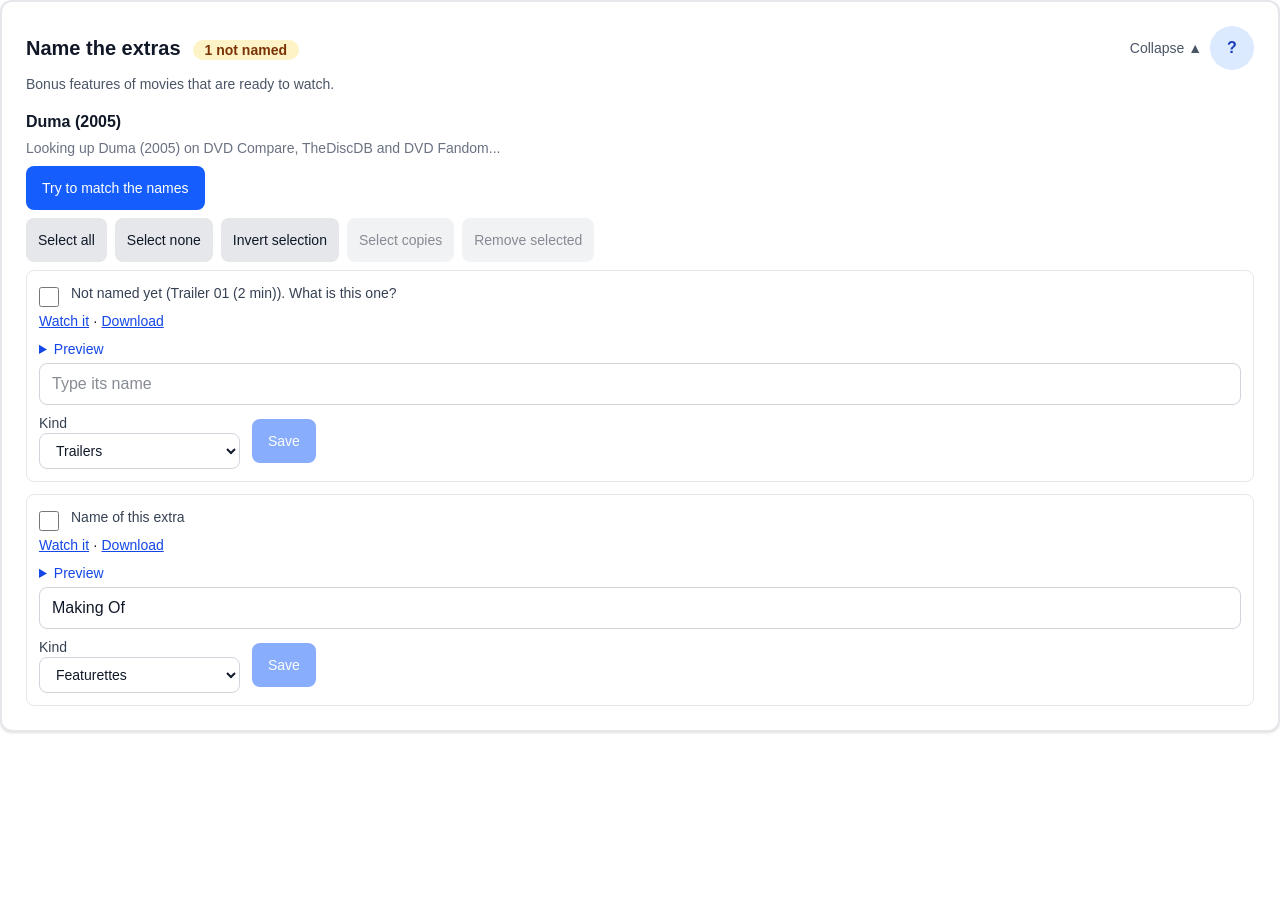
Test: the "Name the extras" section › Cancel removes nothing
Click the checkbox named "Select the extra Making Of in Duma (2005)": (49, 521) x1=39 y1=511 x2=59 y2=531
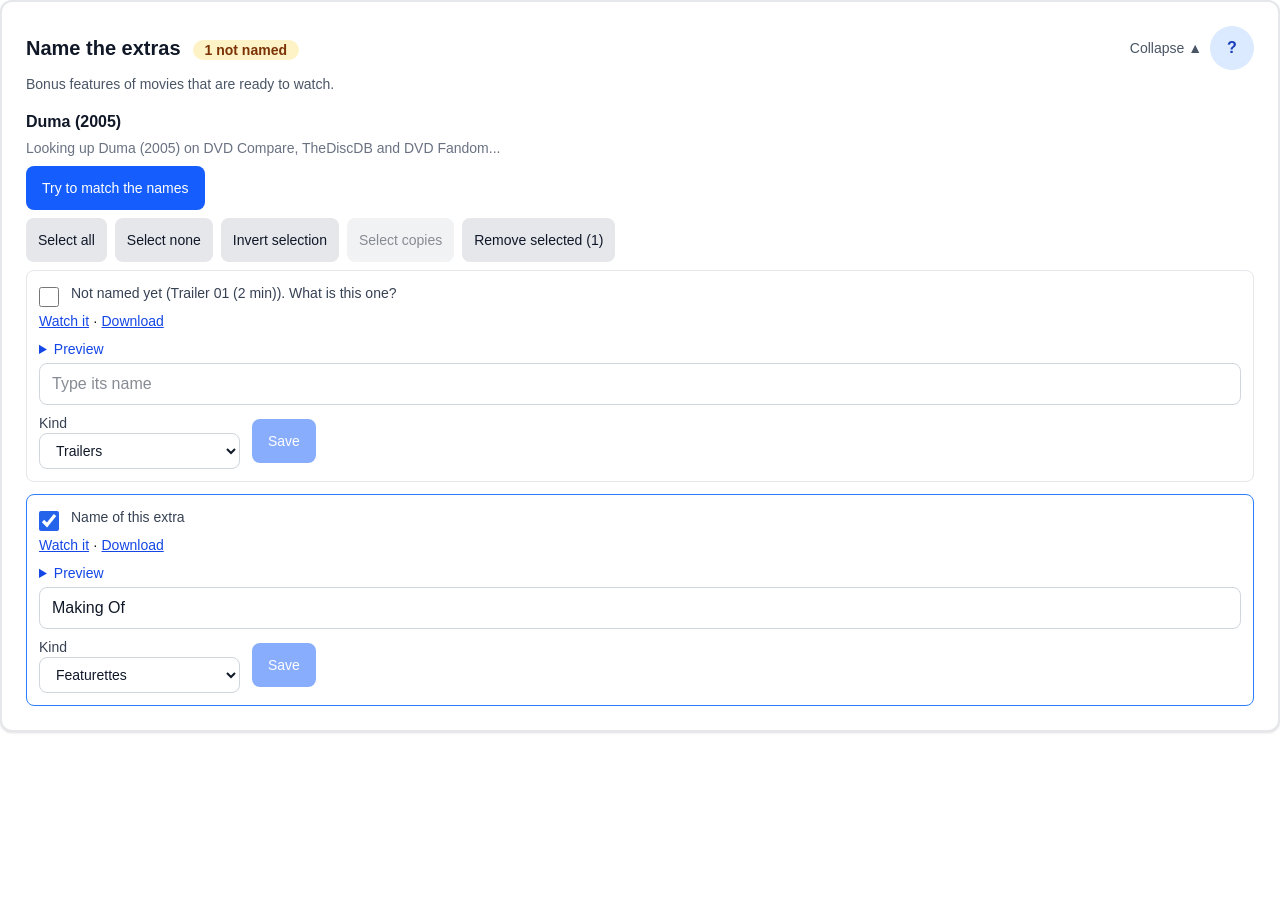
Click the button "Remove selected (1)": (539, 240) x1=462 y1=218 x2=615 y2=262
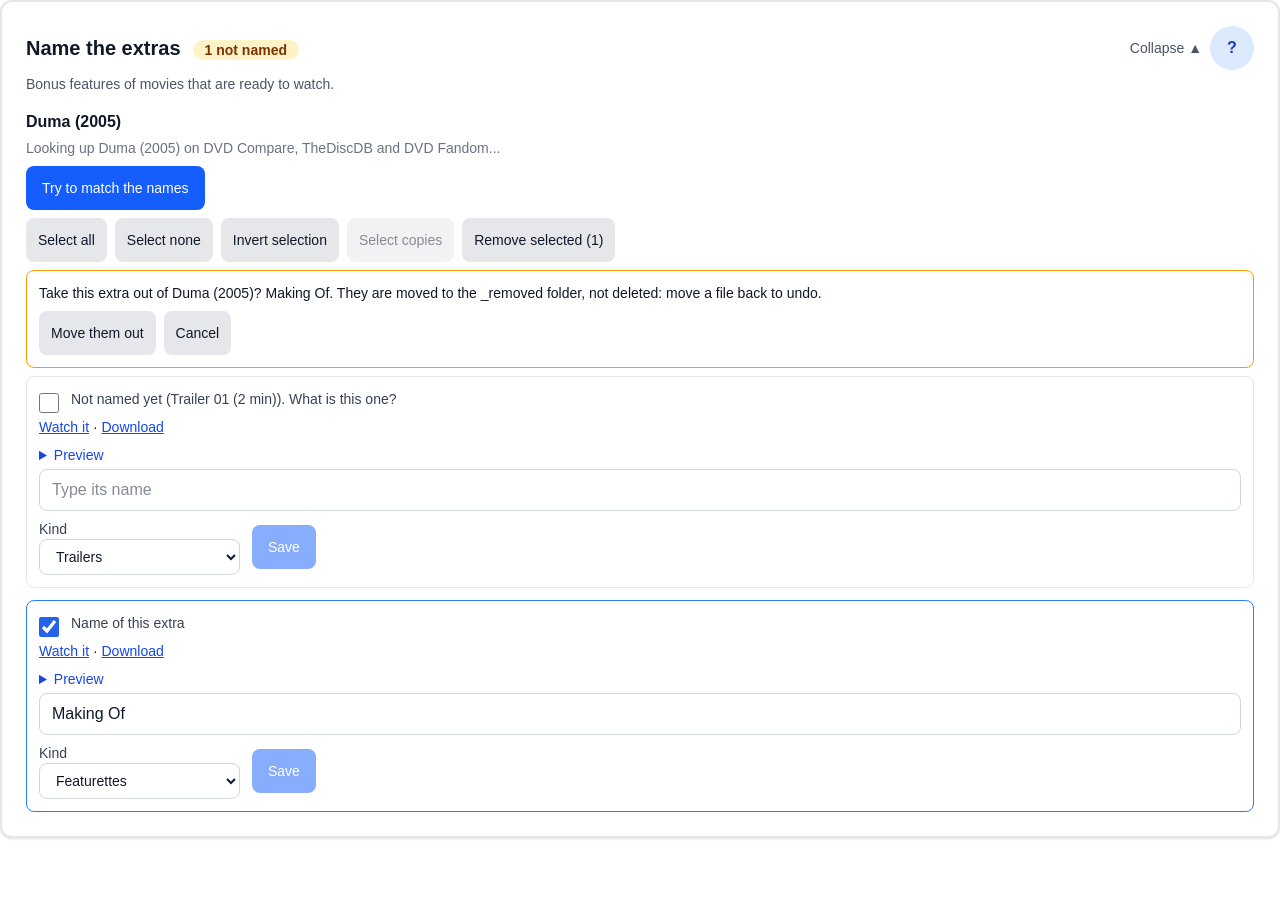
Click the button "Cancel": (197, 333) x1=164 y1=311 x2=231 y2=355
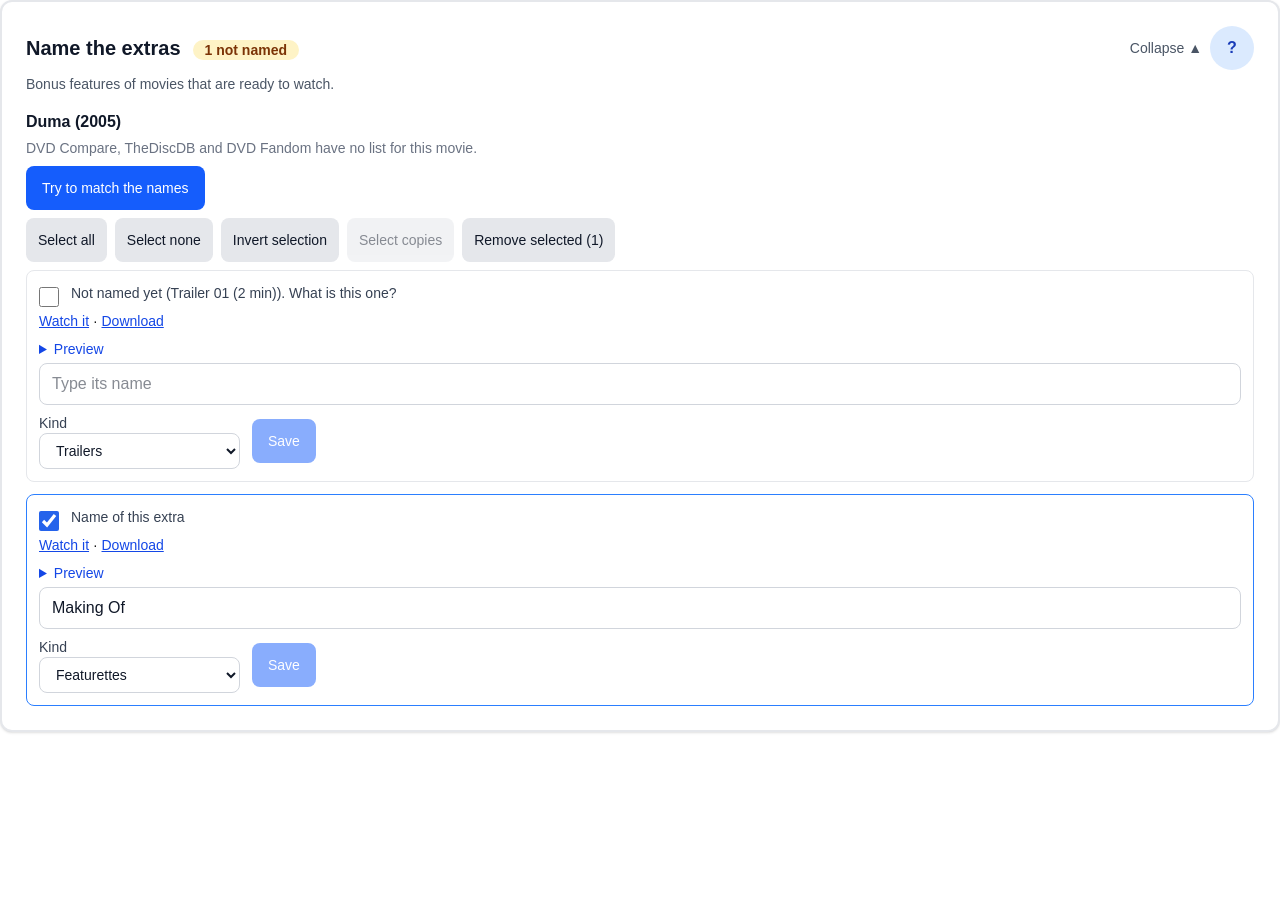
Result: the dialog is gone
